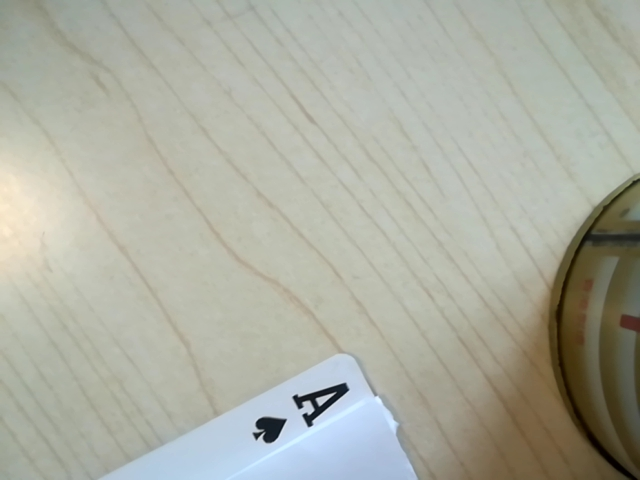ht a: (236, 378, 370, 455)
